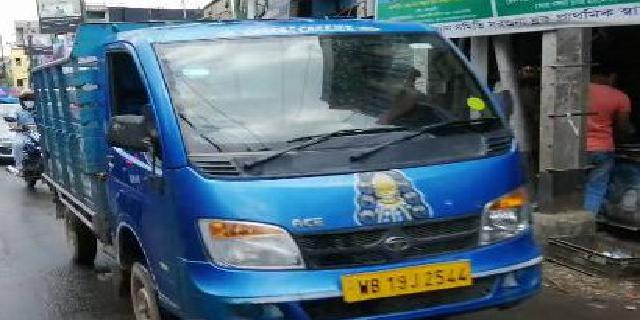Minitruck: (28, 20, 548, 312)
